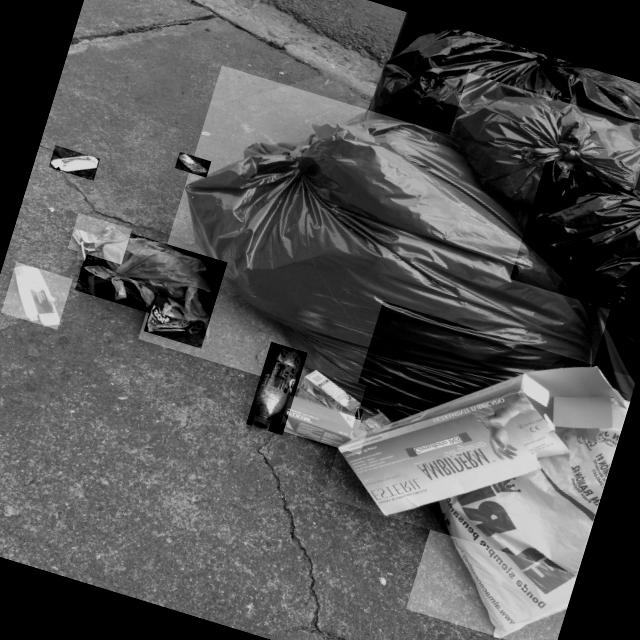Bottle cap: (252, 417, 269, 430)
Clear plastic bottle: (252, 346, 304, 429)
Crisp packet: (146, 291, 207, 335)
Food Carton: (300, 370, 360, 414), (70, 223, 127, 253), (360, 411, 391, 431)
Garbage bag: (184, 118, 593, 417), (364, 28, 640, 173), (450, 97, 635, 211), (526, 186, 640, 305)
Other Carton: (337, 366, 626, 516), (279, 395, 366, 448), (13, 265, 59, 326), (50, 156, 98, 172)
Plastic film: (177, 153, 207, 174)
Pop tab: (201, 132, 209, 135)
Single-use carrier bag: (438, 396, 628, 638), (79, 238, 210, 324)
Straw: (80, 241, 84, 260), (356, 408, 359, 420)
